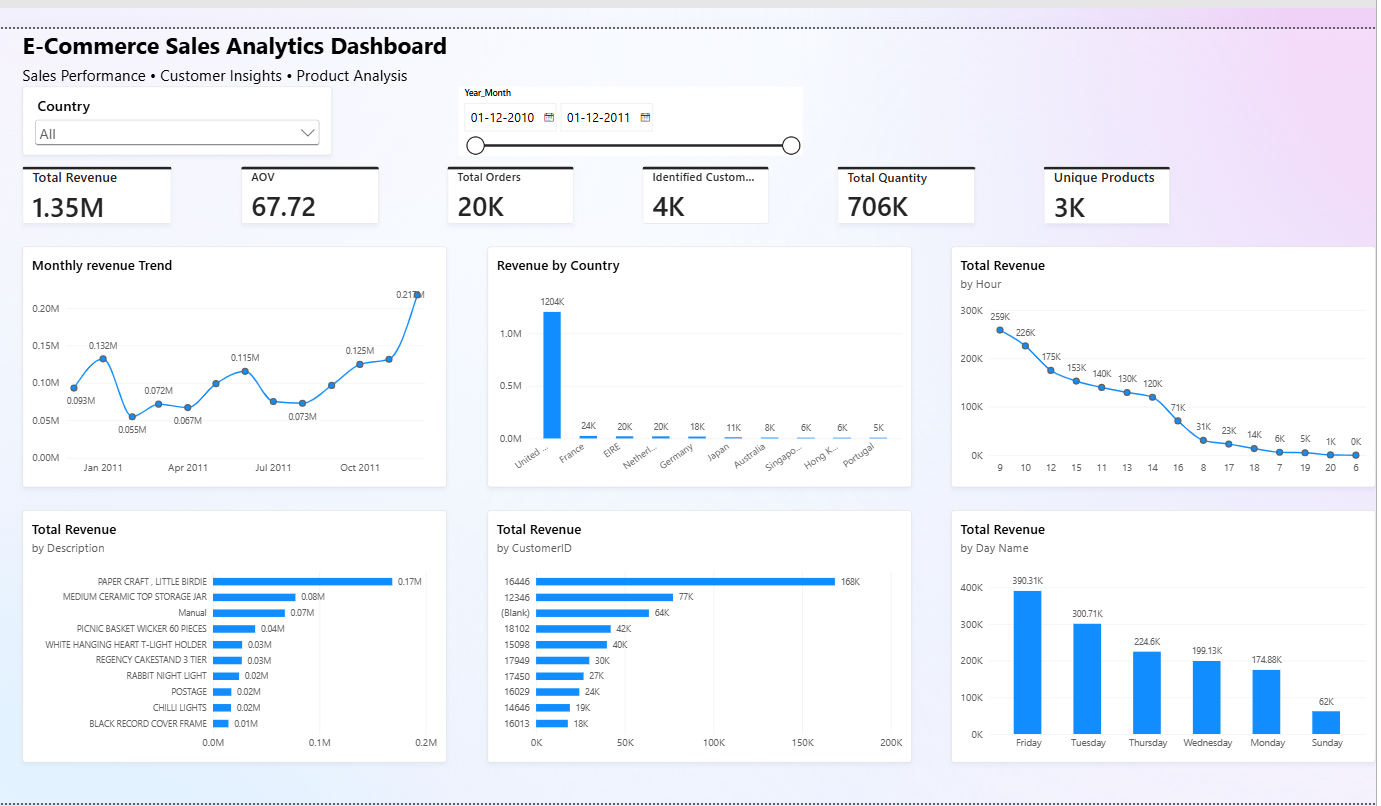

What the dashboard file says about the page in this screenshot:
{"tool":"powerbi","page":{"name":"Page 1","canvas":[1920,1080],"ordinal":0},"visuals":[{"type":"cardVisual","fields":{"Data":["Online Retail.Total Revenue"]},"box":[32,192,208,80],"z":0},{"type":"cardVisual","fields":{"Data":["Online Retail.Total Orders"]},"box":[624,192,176,80],"z":1000},{"type":"cardVisual","fields":{"Data":["Online Retail.Identified Customers"]},"box":[896,192,176,80],"z":2000},{"type":"cardVisual","fields":{"Data":["Online Retail.Unique Products"]},"box":[1456,192,176,80],"z":3000},{"type":"cardVisual","fields":{"Data":["Online Retail.Total Quantity"]},"box":[1168,192,192,80],"z":4000},{"type":"cardVisual","fields":{"Data":["Online Retail.AOV"]},"box":[336,192,192,80],"z":5000},{"type":"lineChart","title":"Monthly revenue Trend","fields":{"Y":["Online Retail.Total Revenue"],"Category":["Online Retail.Year_Month"]},"box":[32,304,592,336],"z":6000},{"type":"clusteredColumnChart","title":"Revenue by Country","fields":{"Y":["Online Retail.Total Revenue"],"Category":["Online Retail.Country"]},"box":[680,304,592,336],"z":7000},{"type":"barChart","fields":{"Category":["Online Retail.Description"],"Y":["Online Retail.Total Revenue"]},"box":[32,672,592,352],"z":8000},{"type":"barChart","fields":{"Category":["Online Retail.CustomerID"],"Y":["Online Retail.Total Revenue"]},"box":[680,672,592,352],"z":9000},{"type":"clusteredColumnChart","fields":{"Category":["Online Retail.Day Name"],"Y":["Online Retail.Total Revenue"]},"box":[1328,672,592,352],"z":10000},{"type":"lineChart","fields":{"Category":["Online Retail.Hour"],"Y":["Online Retail.Total Revenue"]},"box":[1328,304,592,336],"z":11000},{"type":"textbox","box":[32,0,1792,48],"z":12000},{"type":"textbox","box":[32,48,576,32],"z":13000},{"type":"slicer","fields":{"Values":["Online Retail.Country"]},"box":[32,80,432,96],"z":14000},{"type":"slicer","fields":{"Values":["Online Retail.Year_Month"]},"box":[640,80,480,96],"z":15000}]}

Visuals, with their boxes on the page's 1920x1080 design canvas (x1, y1, x2, y2). These are canvas units, not pixel positions in the 1381x806 screenshot, which may show the page scaled, cropped or inside an application window:
cardVisual - Online Retail.Total Revenue: (32,192,240,272)
cardVisual - Online Retail.Total Orders: (624,192,800,272)
cardVisual - Online Retail.Identified Customers: (896,192,1072,272)
cardVisual - Online Retail.Unique Products: (1456,192,1632,272)
cardVisual - Online Retail.Total Quantity: (1168,192,1360,272)
cardVisual - Online Retail.AOV: (336,192,528,272)
"Monthly revenue Trend" lineChart: (32,304,624,640)
"Revenue by Country" clusteredColumnChart: (680,304,1272,640)
barChart - Online Retail.Description x Online Retail.Total Revenue: (32,672,624,1024)
barChart - Online Retail.CustomerID x Online Retail.Total Revenue: (680,672,1272,1024)
clusteredColumnChart - Online Retail.Day Name x Online Retail.Total Revenue: (1328,672,1920,1024)
lineChart - Online Retail.Hour x Online Retail.Total Revenue: (1328,304,1920,640)
textbox: (32,0,1824,48)
textbox: (32,48,608,80)
slicer - Online Retail.Country: (32,80,464,176)
slicer - Online Retail.Year_Month: (640,80,1120,176)
